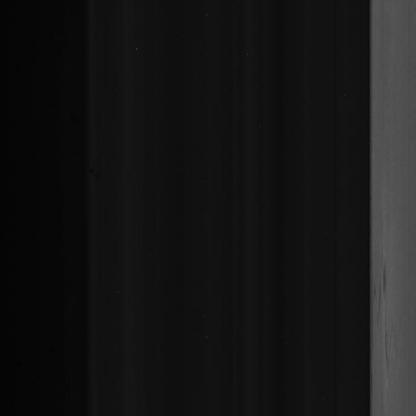silk_spot: (370, 233, 402, 380)
